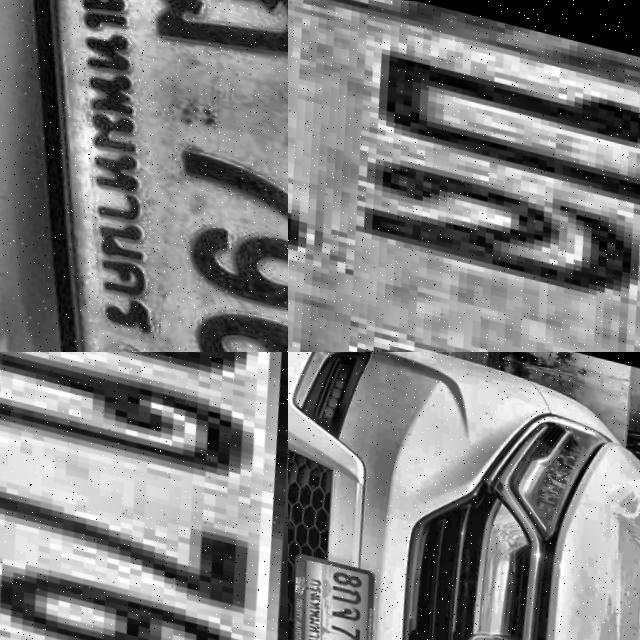license-plate: (288, 0, 640, 352), (0, 0, 288, 352), (0, 352, 288, 640), (288, 546, 382, 640)
